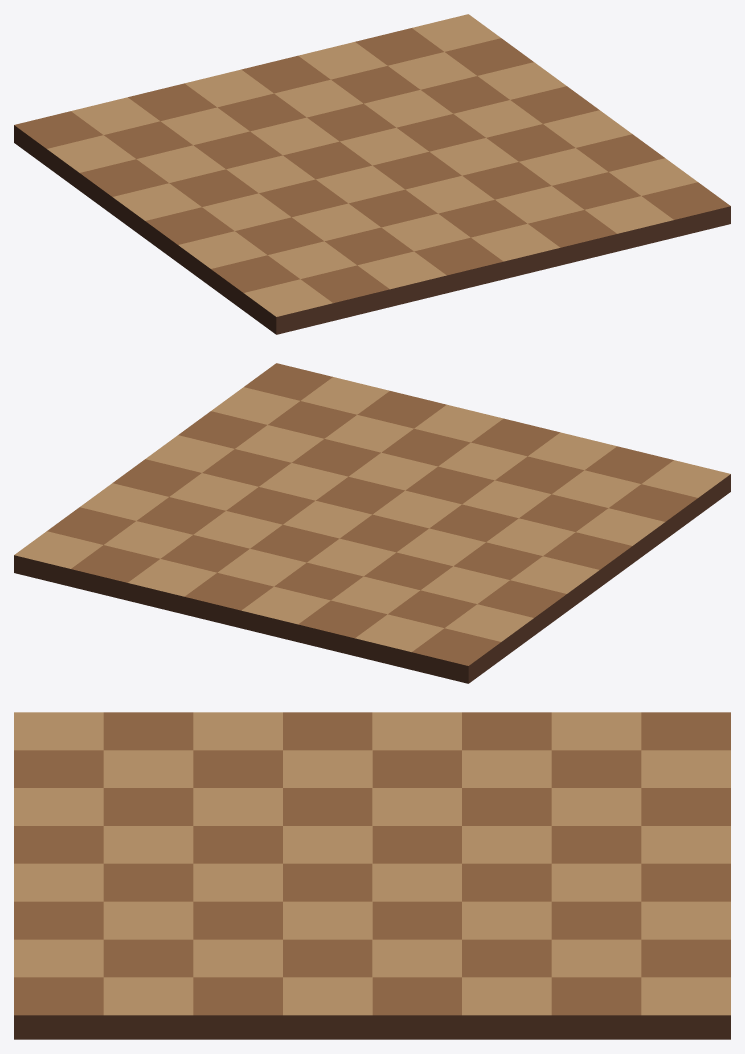
File: floor_tile_4x4.glb
3 renders of one model, top to bottom at view 1: azimuth 30°, elevation 25°; view 2: azimuth 150°, elevation 25°; view 3: azimuth 270°, elevation 25°, orthographic. The views are drawn at different scales.
Parts seen in each view (by area): view 1: floor_tile_4x4; view 2: floor_tile_4x4; view 3: floor_tile_4x4.
Part boxes in pixels (<box>): floor_tile_4x4: <box>14,14,730,334</box>; floor_tile_4x4: <box>14,363,730,683</box>; floor_tile_4x4: <box>14,712,730,1039</box>.
Size of the model in its own units: 4 by 0.15 by 4.
